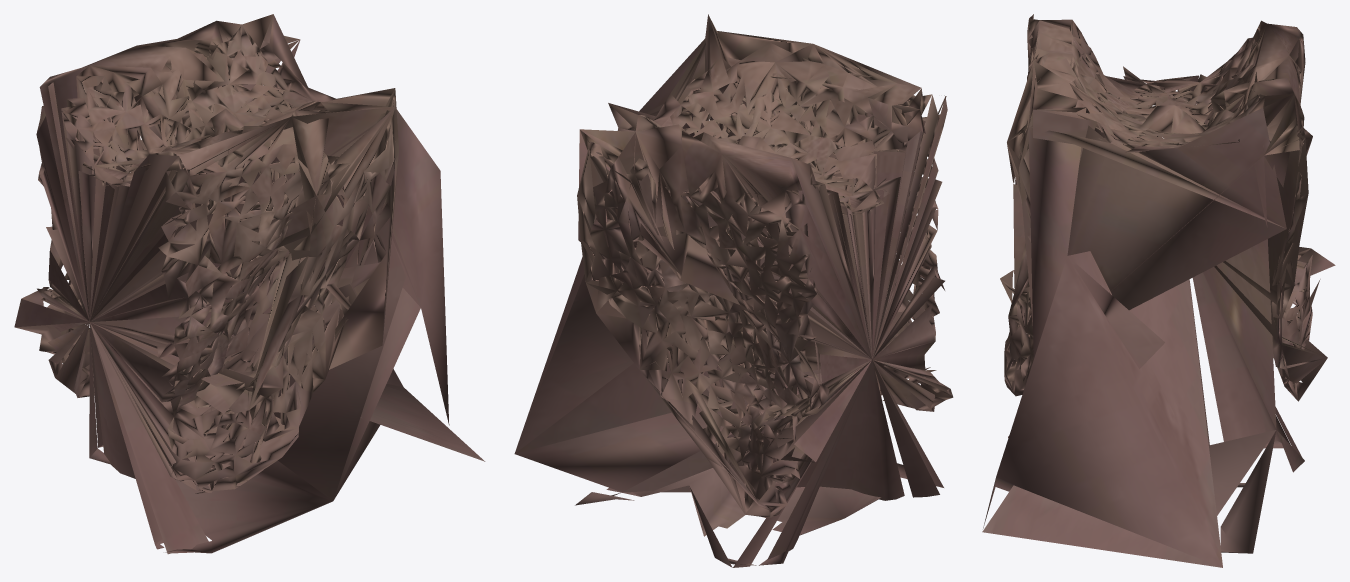
Rendered from beach_net_rack.glb.
The picture shows the model from 3 angles, left to right: view 1: azimuth 30°, elevation 25°; view 2: azimuth 150°, elevation 25°; view 3: azimuth 270°, elevation 25°; orthographic projection. The views are drawn at different scales.
Visible parts, largest first — view 1: tripo_node_15e16752-edf7-4aef-9863-3fc641fa62d9; view 2: tripo_node_15e16752-edf7-4aef-9863-3fc641fa62d9; view 3: tripo_node_15e16752-edf7-4aef-9863-3fc641fa62d9.
Part boxes in pixels (bbox=[...]): tripo_node_15e16752-edf7-4aef-9863-3fc641fa62d9: bbox=[14, 14, 485, 554]; tripo_node_15e16752-edf7-4aef-9863-3fc641fa62d9: bbox=[514, 14, 953, 567]; tripo_node_15e16752-edf7-4aef-9863-3fc641fa62d9: bbox=[982, 14, 1335, 567].
Size of the model in its own units: 0.8312 by 1 by 0.7105.
Materials: 1 (1 with a texture image).
